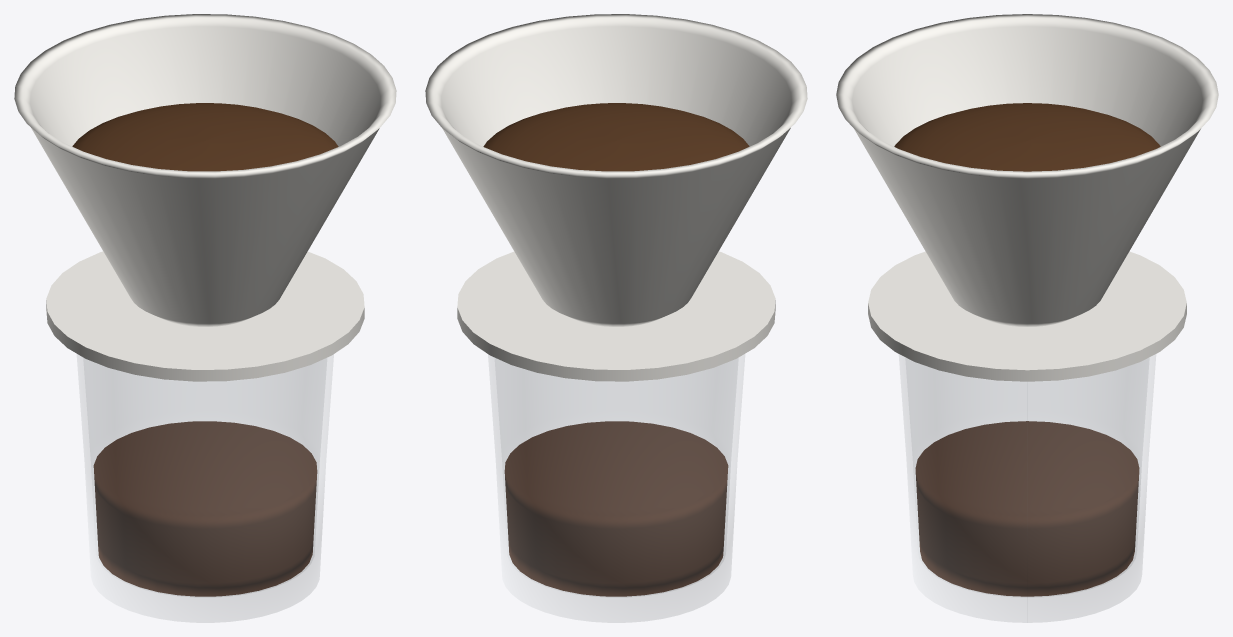
File: alba-caffe-in-filtro-v60.glb
The picture shows the model from 3 angles, left to right: view 1: azimuth 30°, elevation 25°; view 2: azimuth 150°, elevation 25°; view 3: azimuth 270°, elevation 25°; orthographic projection.
Bounding box in the file's own units: 0.12 × 0.166 × 0.12.
